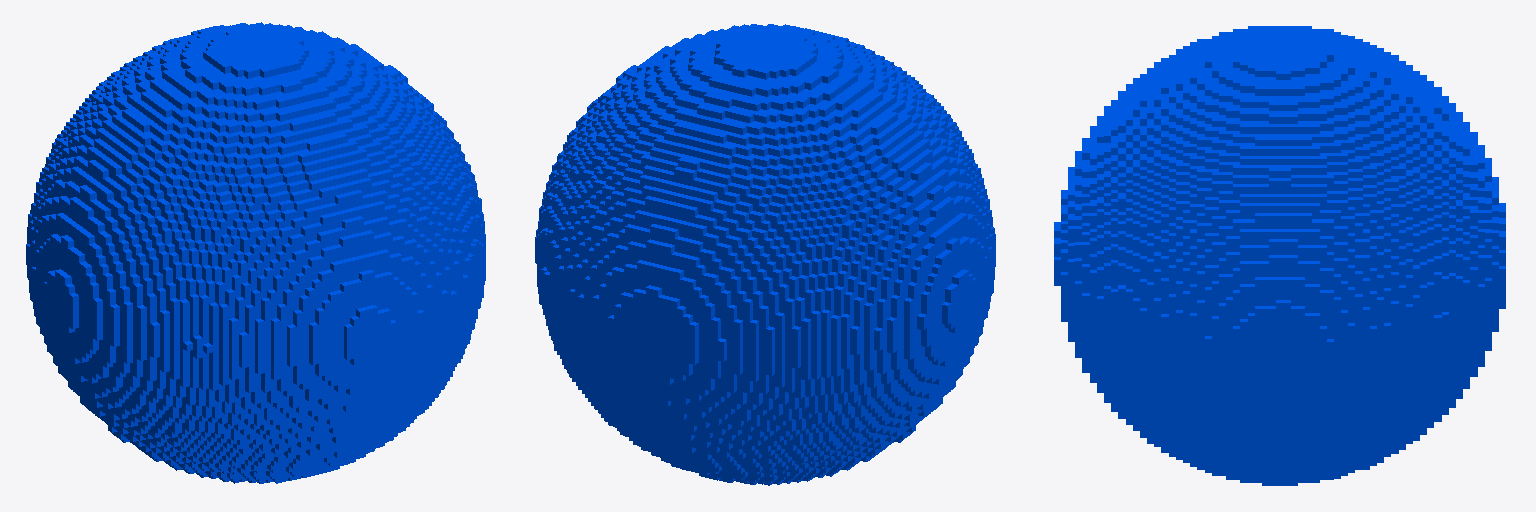
3 renders of one model, left to right at view 1: azimuth 30°, elevation 25°; view 2: azimuth 150°, elevation 25°; view 3: azimuth 270°, elevation 25°, orthographic.
Parts seen in each view (by area): view 1: object 1; view 2: object 1; view 3: object 1.
Boxes of the visible parts, <box> form: object 1: <box>26,22,485,483</box>; object 1: <box>535,24,995,485</box>; object 1: <box>1054,26,1505,485</box>.
Size of the model in its own units: 6.3 by 6.3 by 6.3.
1 materials, 1 textured.